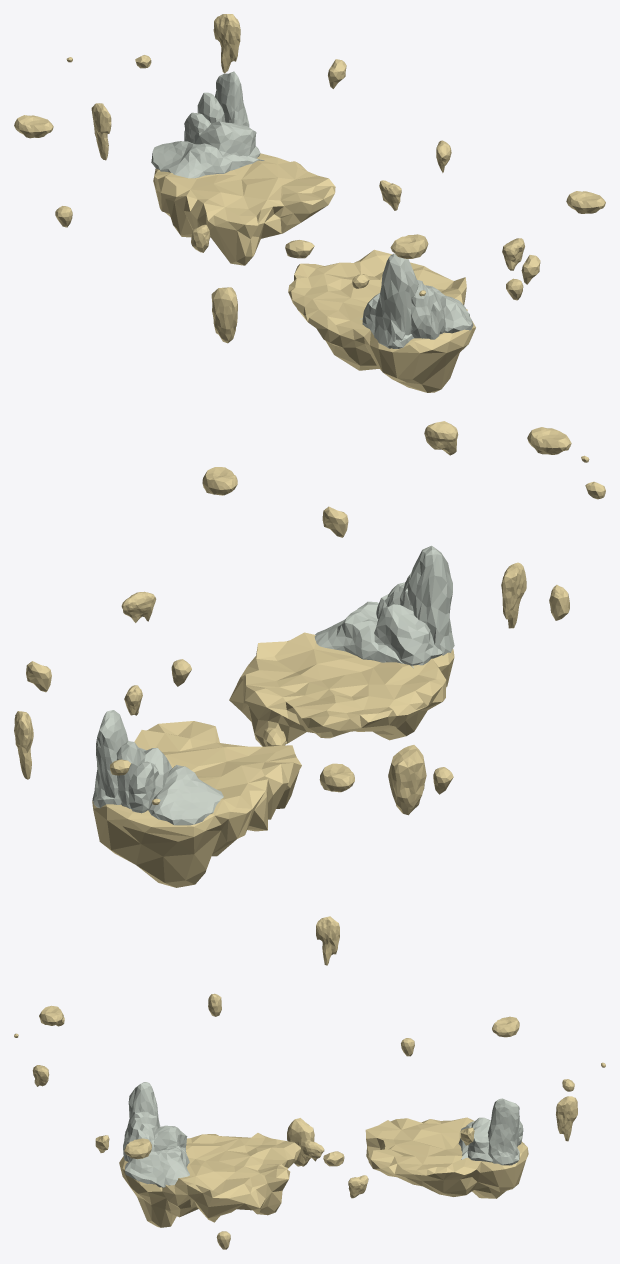
File: MAP-3.fbx
The picture shows the model from 3 angles, top to bottom: view 1: azimuth 30°, elevation 25°; view 2: azimuth 150°, elevation 25°; view 3: azimuth 270°, elevation 25°; orthographic projection. The views are drawn at different scales.
Parts seen in each view (by area): view 1: Icosphere.011, Icosphere.005, Icosphere.010, Icosphere, Icosphere.001, Icosphere.009, Icosphere.004, Icosphere.016, Icosphere.040, Icosphere.006, Icosphere.029, Icosphere.023 (+6 smaller); view 2: Icosphere.005, Icosphere.011, Icosphere.010, Icosphere, Icosphere.007, Icosphere.006, Icosphere.016, Icosphere.004, Icosphere.029, Icosphere.002, Icosphere.040, Icosphere.001 (+7 smaller); view 3: Icosphere.011, Icosphere.005, Icosphere.006, Icosphere.004, Icosphere.009, Icosphere.001, Icosphere.010, Icosphere.029, Icosphere.040, Icosphere.016, Icosphere.007, Icosphere.032 (+1 smaller).
Boxes of the visible parts, x1,y1,x2,y2 form: Icosphere.011: (288,249,475,392); Icosphere.005: (153,153,335,265); Icosphere.010: (374,253,418,348); Icosphere: (151,141,264,178); Icosphere.001: (193,121,260,157); Icosphere.009: (411,280,445,339); Icosphere.004: (215,71,249,126); Icosphere.016: (211,287,237,343); Icosphere.040: (213,14,240,73); Icosphere.006: (360,285,473,333); Icosphere.029: (91,103,111,160); Icosphere.023: (390,234,428,258); Icosphere.005: (92,721,301,887); Icosphere.011: (229,632,454,746); Icosphere.010: (407,545,454,655); Icosphere: (148,765,223,825); Icosphere.007: (374,604,442,665); Icosphere.006: (314,601,413,667); Icosphere.016: (388,745,426,815); Icosphere.004: (92,710,128,801); Icosphere.029: (501,562,526,628); Icosphere.002: (128,761,159,813); Icosphere.040: (14,711,33,779); Icosphere.001: (93,747,172,808); Icosphere.011: (119,1133,300,1227); Icosphere.005: (365,1117,528,1198); Icosphere.006: (125,1144,189,1187); Icosphere.004: (488,1098,519,1165); Icosphere.009: (123,1111,157,1161); Icosphere.001: (467,1117,519,1164); Icosphere.010: (128,1082,160,1127); Icosphere.029: (316,916,339,965); Icosphere.040: (556,1096,577,1141); Icosphere.016: (287,1118,314,1166); Icosphere.007: (154,1125,187,1151); Icosphere.032: (124,1138,151,1159).
Size of the model in its own units: 9901 by 6512 by 15977.
